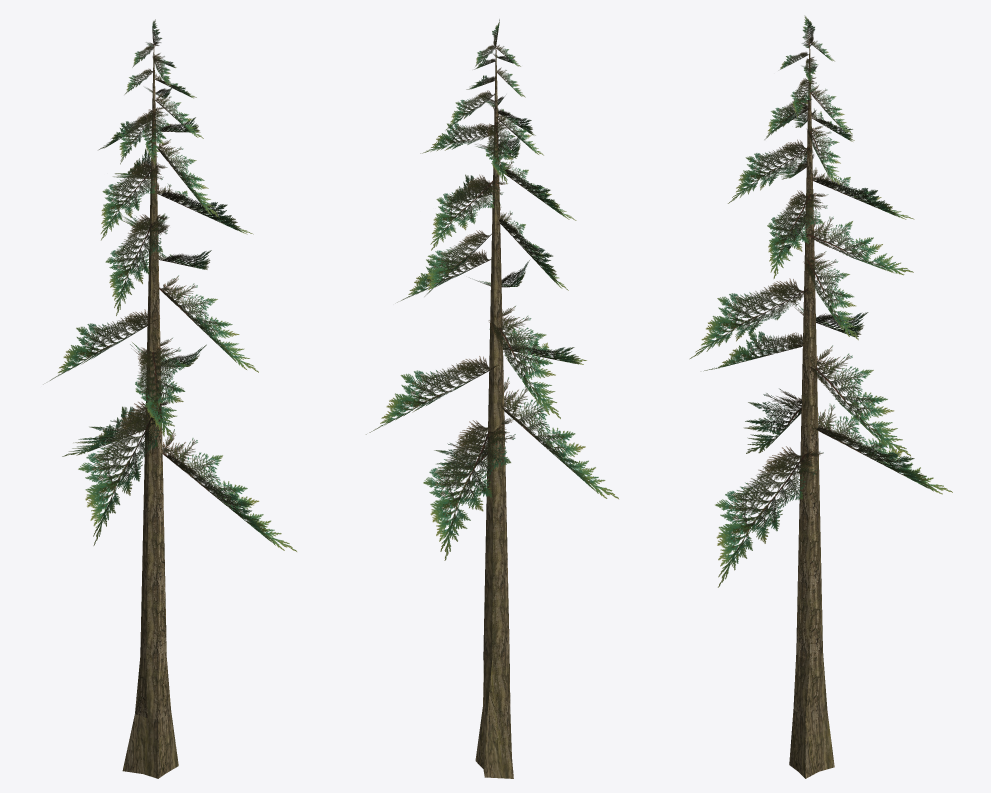
Rendered from tree-fir-tall.glb.
3 renders of one model, left to right at view 1: azimuth 30°, elevation 25°; view 2: azimuth 150°, elevation 25°; view 3: azimuth 270°, elevation 25°, orthographic.
Parts seen in each view (by area): view 1: Tree_3; view 2: Tree_3; view 3: Tree_3.
Boxes of the visible parts, <box> form: Tree_3: <box>43,19,296,778</box>; Tree_3: <box>366,19,618,778</box>; Tree_3: <box>690,15,952,778</box>.
Size of the model in its own units: 3.25 by 9.23 by 3.43.
Materials: 2 (2 with a texture image).
